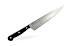Knife: (7, 4, 63, 41)
